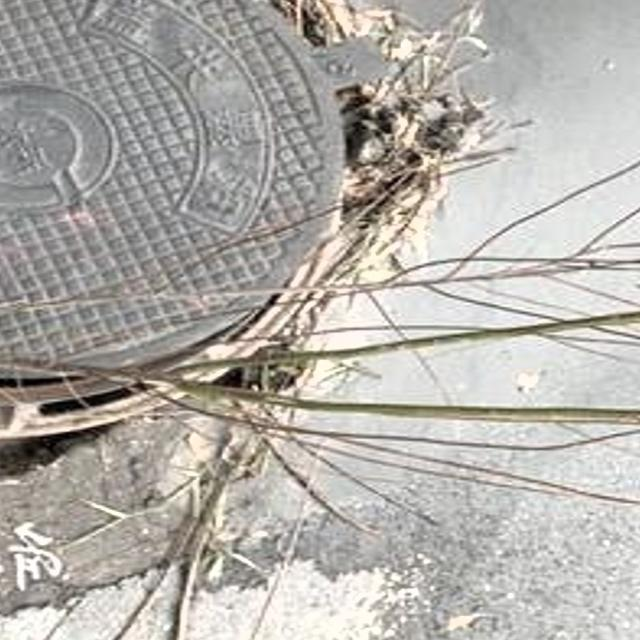circle: (0, 0, 519, 613)
